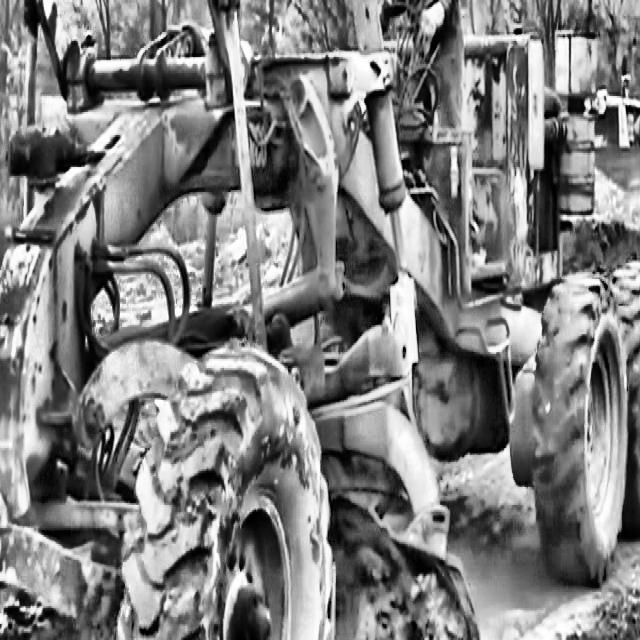buldozerpayloadergrader: (0, 28, 640, 640)
